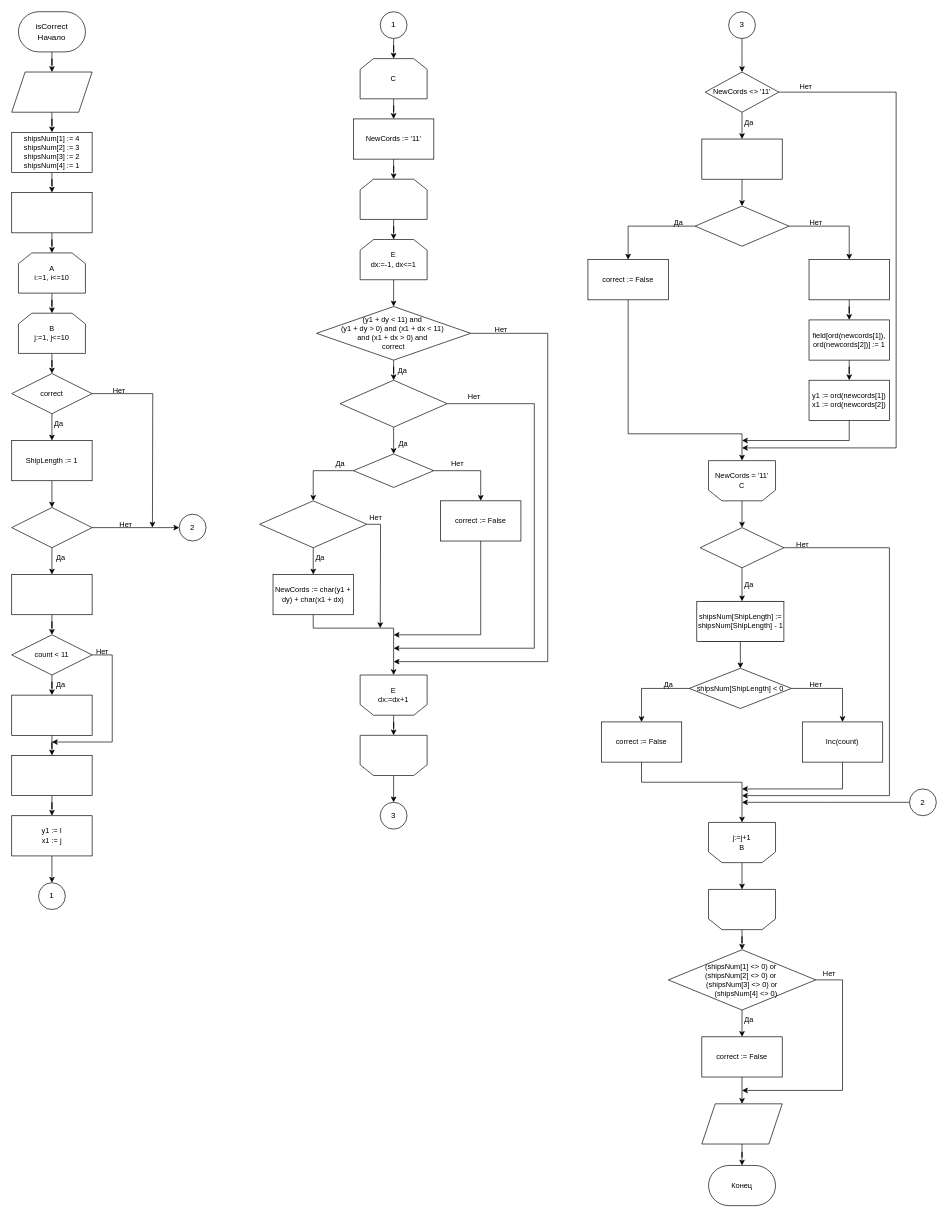
Some shapes in this 948 by 1217 pixel diagram are drawn without their labels. Here are the shapes that lost their labels. From the top down, the centre of each, then its label:
At point (51, 91): "Ввод field, ships".
At point (741, 158): "Inc(ShipLength)".
At point (51, 212): "count := 1 correct := True".
At point (393, 199): "D dy:=-1, dy<=1".
At point (741, 225): "(ShipLength > 4) or (count>10)".
At point (848, 279): "ships[count] := ships[count] + newcords[1] + newcords[2] + ' '".
At point (393, 403): "abs(field[y1 + dy, x1 + dx]) = 1".
At point (393, 470): "(dx and dy) = 0".
At point (51, 527): "(field[I, j] < 0) and correct".
At point (313, 524): "field[y1 + dy, x1 + dx] = -1".
At point (741, 547): "ShipLength<5".
At point (51, 594): "field[I, j] := 1".
At point (51, 714): "ships[count] := char(I) + char(j) + ' '".
At point (51, 775): "NewCords := char(I) + char(j)".
At point (393, 755): "D dy:=dy+1".
At point (742, 909): "i:=i+1 A".
At point (741, 1123): "Вывод correct".
